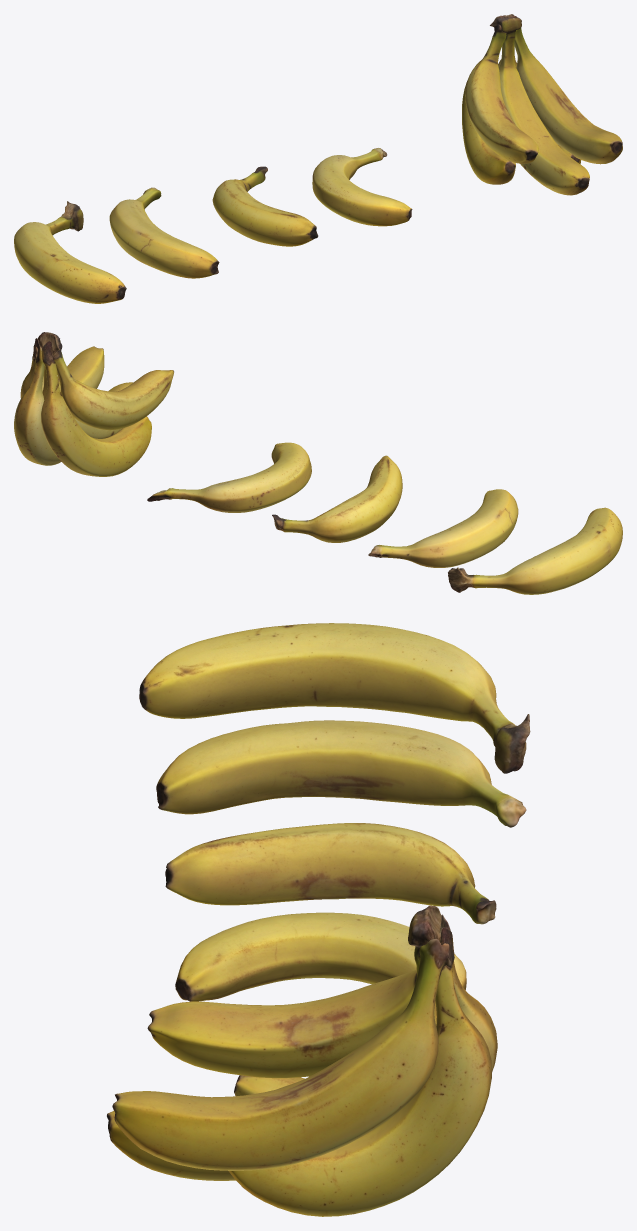
File: banana.glb
3 views of the same model, one above another, from view 1: azimuth 30°, elevation 25°; view 2: azimuth 150°, elevation 25°; view 3: azimuth 270°, elevation 25° (orthographic). The views are drawn at different scales.
Visible parts, largest first — view 1: bananas_bunch, bananas_d, bananas_c, bananas_a, bananas_b; view 2: bananas_bunch, bananas_d, bananas_c, bananas_a, bananas_b; view 3: bananas_bunch, bananas_d, bananas_c, bananas_b, bananas_a.
Boxes of the visible parts, <box> form: bananas_bunch: <box>462,14,622,195</box>; bananas_d: <box>14,201,126,303</box>; bananas_c: <box>109,187,219,278</box>; bananas_a: <box>312,148,412,226</box>; bananas_b: <box>212,166,318,246</box>; bananas_bunch: <box>14,332,173,476</box>; bananas_d: <box>448,507,622,594</box>; bananas_c: <box>368,489,518,567</box>; bananas_a: <box>147,442,311,512</box>; bananas_b: <box>272,455,402,542</box>; bananas_bunch: <box>107,905,497,1216</box>; bananas_d: <box>139,623,530,773</box>; bananas_c: <box>156,720,526,827</box>; bananas_b: <box>165,823,496,924</box>; bananas_a: <box>175,912,466,1001</box>.
Bounding box in the file's own units: 0.5807 × 0.1444 × 0.195.
1 material, 1 textured.
